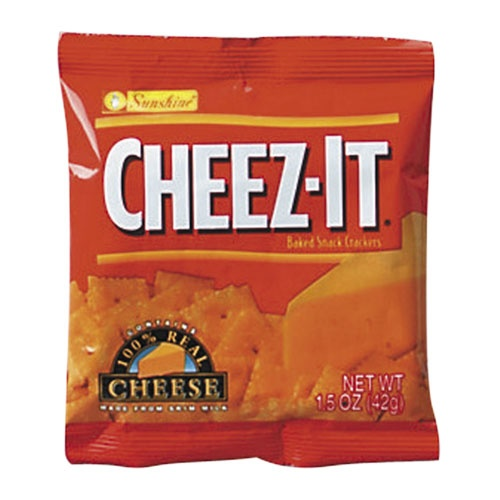grozi_9: (57, 32, 438, 466)
